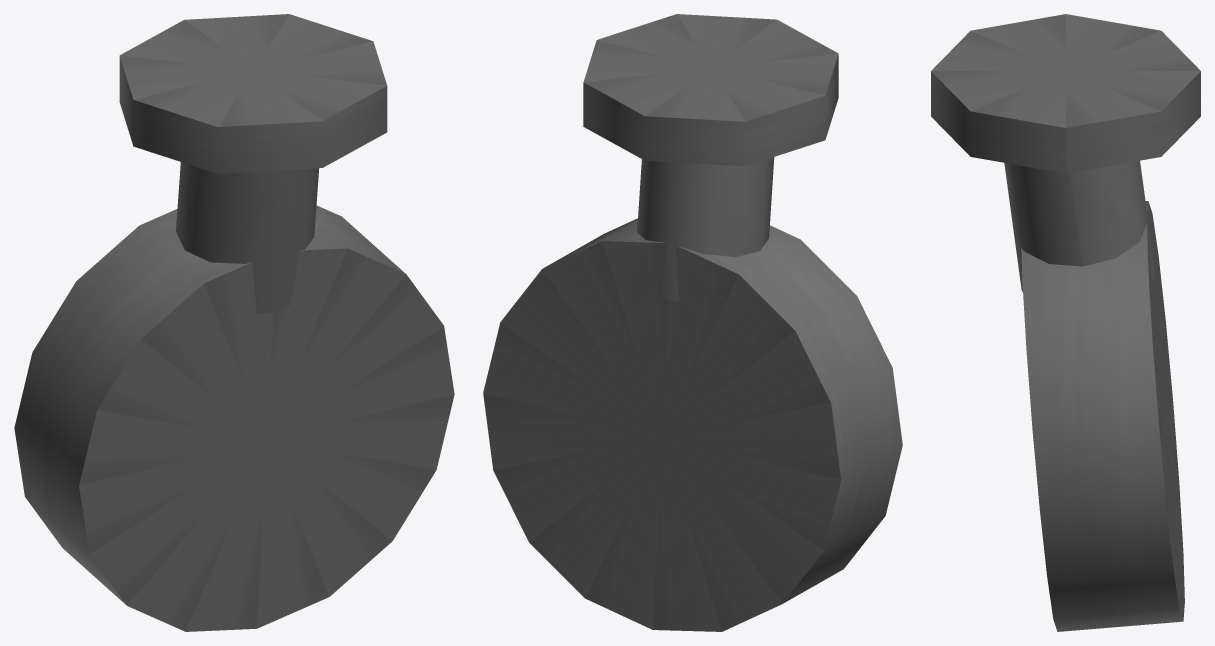
File: mastarmcurve_8x2_c8_up.obj
3 renders of one model, left to right at view 1: azimuth 30°, elevation 25°; view 2: azimuth 150°, elevation 25°; view 3: azimuth 270°, elevation 25°, orthographic. The views are drawn at different scales.
Visible parts, largest first — view 1: mastarm_8x2_c8_up; view 2: mastarm_8x2_c8_up; view 3: mastarm_8x2_c8_up.
Boxes of the visible parts, <box> form: mastarm_8x2_c8_up: <box>14,14,454,631</box>; mastarm_8x2_c8_up: <box>483,14,902,631</box>; mastarm_8x2_c8_up: <box>931,14,1200,631</box>.
Size of the model in its own units: 0.626 by 0.8848 by 0.4.
